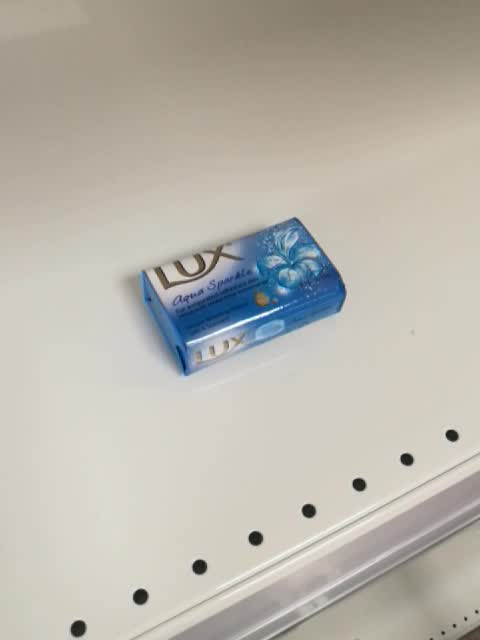soap: (140, 215, 346, 377)
